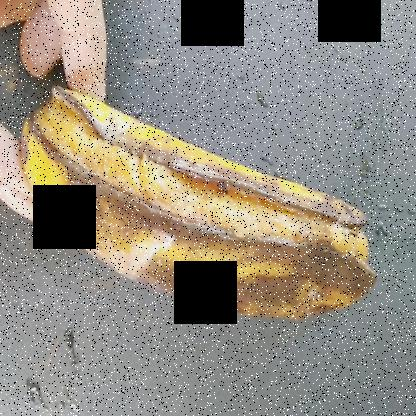rotten: (26, 74, 390, 342)
